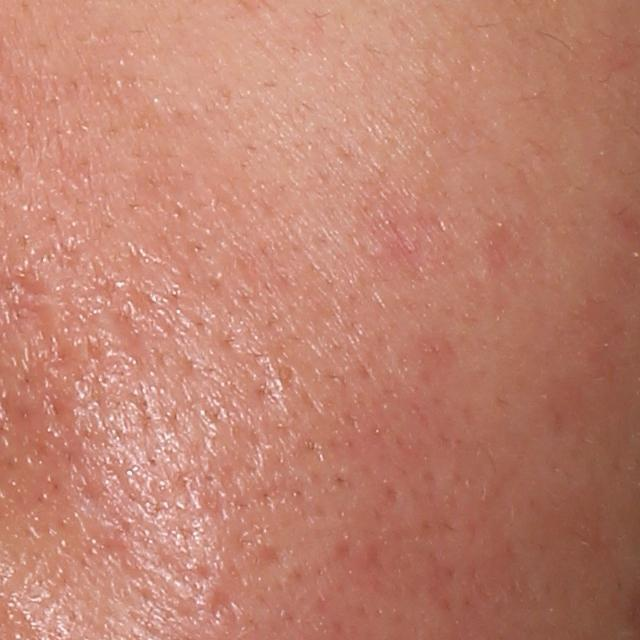atrophic_scar: (208, 586, 238, 623)
